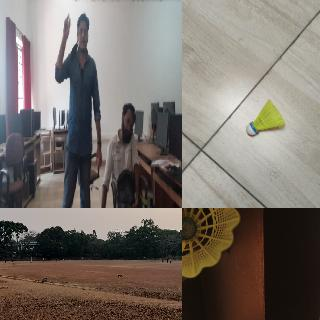shuttlecock: (182, 208, 239, 281), (246, 98, 286, 134), (67, 14, 71, 26)
